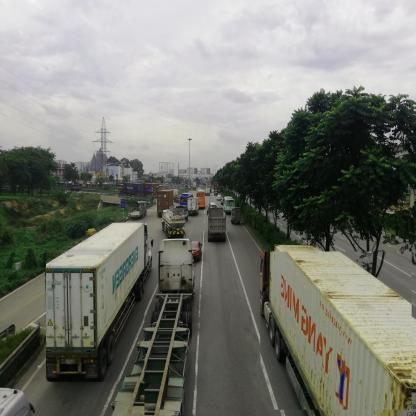bus: (199, 192, 207, 209), (226, 199, 235, 212)
car: (194, 243, 203, 262)
container: (261, 252, 413, 411), (47, 223, 154, 383), (145, 241, 193, 416), (119, 183, 146, 199), (158, 192, 174, 215)
truck: (209, 208, 227, 243), (132, 203, 146, 218), (189, 199, 200, 217), (233, 209, 243, 225), (180, 208, 187, 218)
